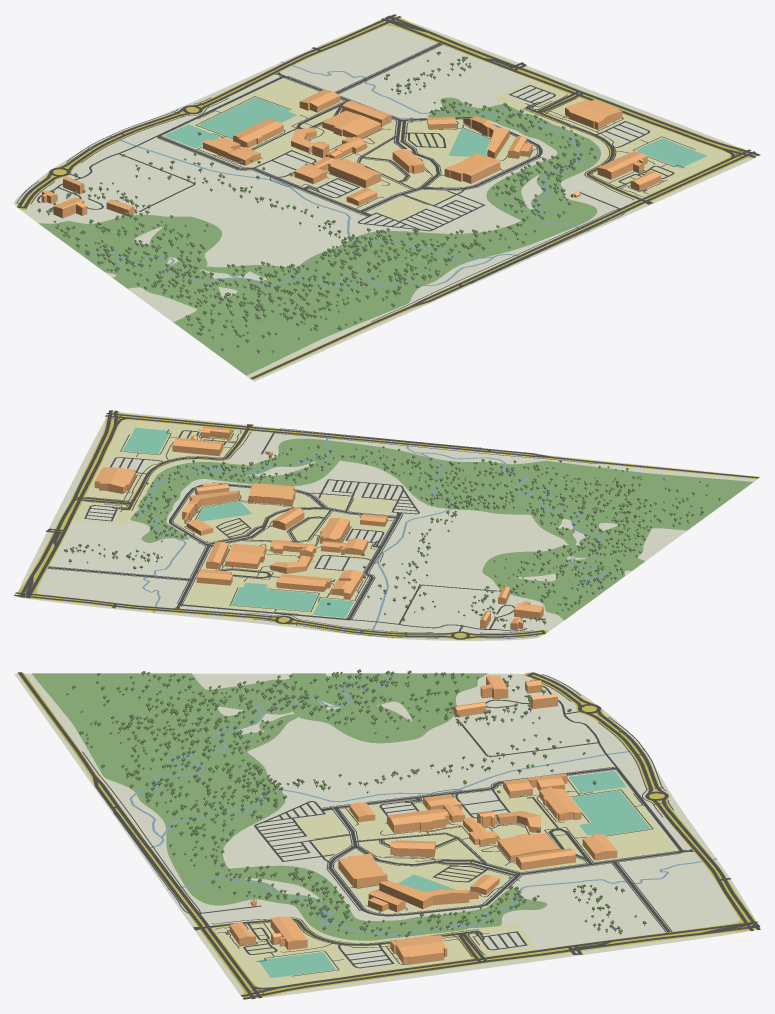
Rendered from TempARVRGISMap 4.fbx.
3 renders of one model, top to bottom at view 1: azimuth 30°, elevation 25°; view 2: azimuth 150°, elevation 25°; view 3: azimuth 270°, elevation 25°, orthographic. The views are drawn at different scales.
Visible parts, largest first — view 1: Terrain, Greenery, Plane.006, Roads, Development.002, map_19.osm_roads_tertiary, map_21.osm_buildings, map_22.osm_roads_service.002, map_22.osm_roads_service, map_19.osm_roads_service, map_19.osm_roads_secondary, map_19.osm_paths_footway (+18 smaller); view 2: Terrain, Greenery, Plane.006, Roads, map_19.osm_roads_tertiary, Development.002, map_21.osm_buildings, map_22.osm_roads_service.002, map_22.osm_roads_service, map_19.osm_roads_service, map_19.osm_paths_footway, map_19.osm_roads_secondary (+21 smaller); view 3: Terrain, Greenery, Plane.006, Roads, Development.002, map_19.osm_roads_tertiary, map_21.osm_buildings, map_22.osm_roads_service.002, map_22.osm_roads_service, map_19.osm_roads_service, map_19.osm_roads_secondary, Park.003 (+21 smaller).
Part boxes in pixels (<box>): Terrain: <box>14,21,754,381</box>; Greenery: <box>38,97,600,375</box>; Plane.006: <box>163,79,536,220</box>; Roads: <box>16,16,756,379</box>; Development.002: <box>494,80,730,200</box>; map_19.osm_roads_tertiary: <box>17,14,755,379</box>; map_21.osm_buildings: <box>41,99,661,218</box>; map_22.osm_roads_service.002: <box>157,43,541,216</box>; map_22.osm_roads_service: <box>156,43,542,213</box>; map_19.osm_roads_service: <box>37,85,674,211</box>; map_19.osm_roads_secondary: <box>381,15,760,157</box>; map_19.osm_paths_footway: <box>16,94,741,321</box>; Terrain: <box>19,412,760,640</box>; Greenery: <box>130,438,753,620</box>; Plane.006: <box>174,487,395,618</box>; Roads: <box>16,411,759,639</box>; map_19.osm_roads_tertiary: <box>14,413,758,639</box>; Development.002: <box>72,420,251,525</box>; map_21.osm_buildings: <box>94,426,543,630</box>; map_22.osm_roads_service.002: <box>48,482,403,618</box>; map_22.osm_roads_service: <box>47,483,399,620</box>; map_19.osm_roads_service: <box>84,430,527,632</box>; map_19.osm_paths_footway: <box>85,415,597,638</box>; map_19.osm_roads_secondary: <box>18,410,118,598</box>; Terrain: <box>14,673,757,998</box>; Greenery: <box>32,673,546,940</box>; Plane.006: <box>295,771,677,913</box>; Roads: <box>17,672,759,997</box>; Development.002: <box>209,918,537,987</box>; map_19.osm_roads_tertiary: <box>18,672,760,999</box>; map_21.osm_buildings: <box>229,675,557,964</box>; map_22.osm_roads_service.002: <box>315,767,685,932</box>; map_22.osm_roads_service: <box>328,767,693,932</box>; map_19.osm_roads_service: <box>199,685,640,968</box>; map_19.osm_roads_secondary: <box>241,921,759,999</box>; Park.003: <box>572,790,650,835</box>.
Bounding box in the file's own units: 25908 × 507 × 24960.
